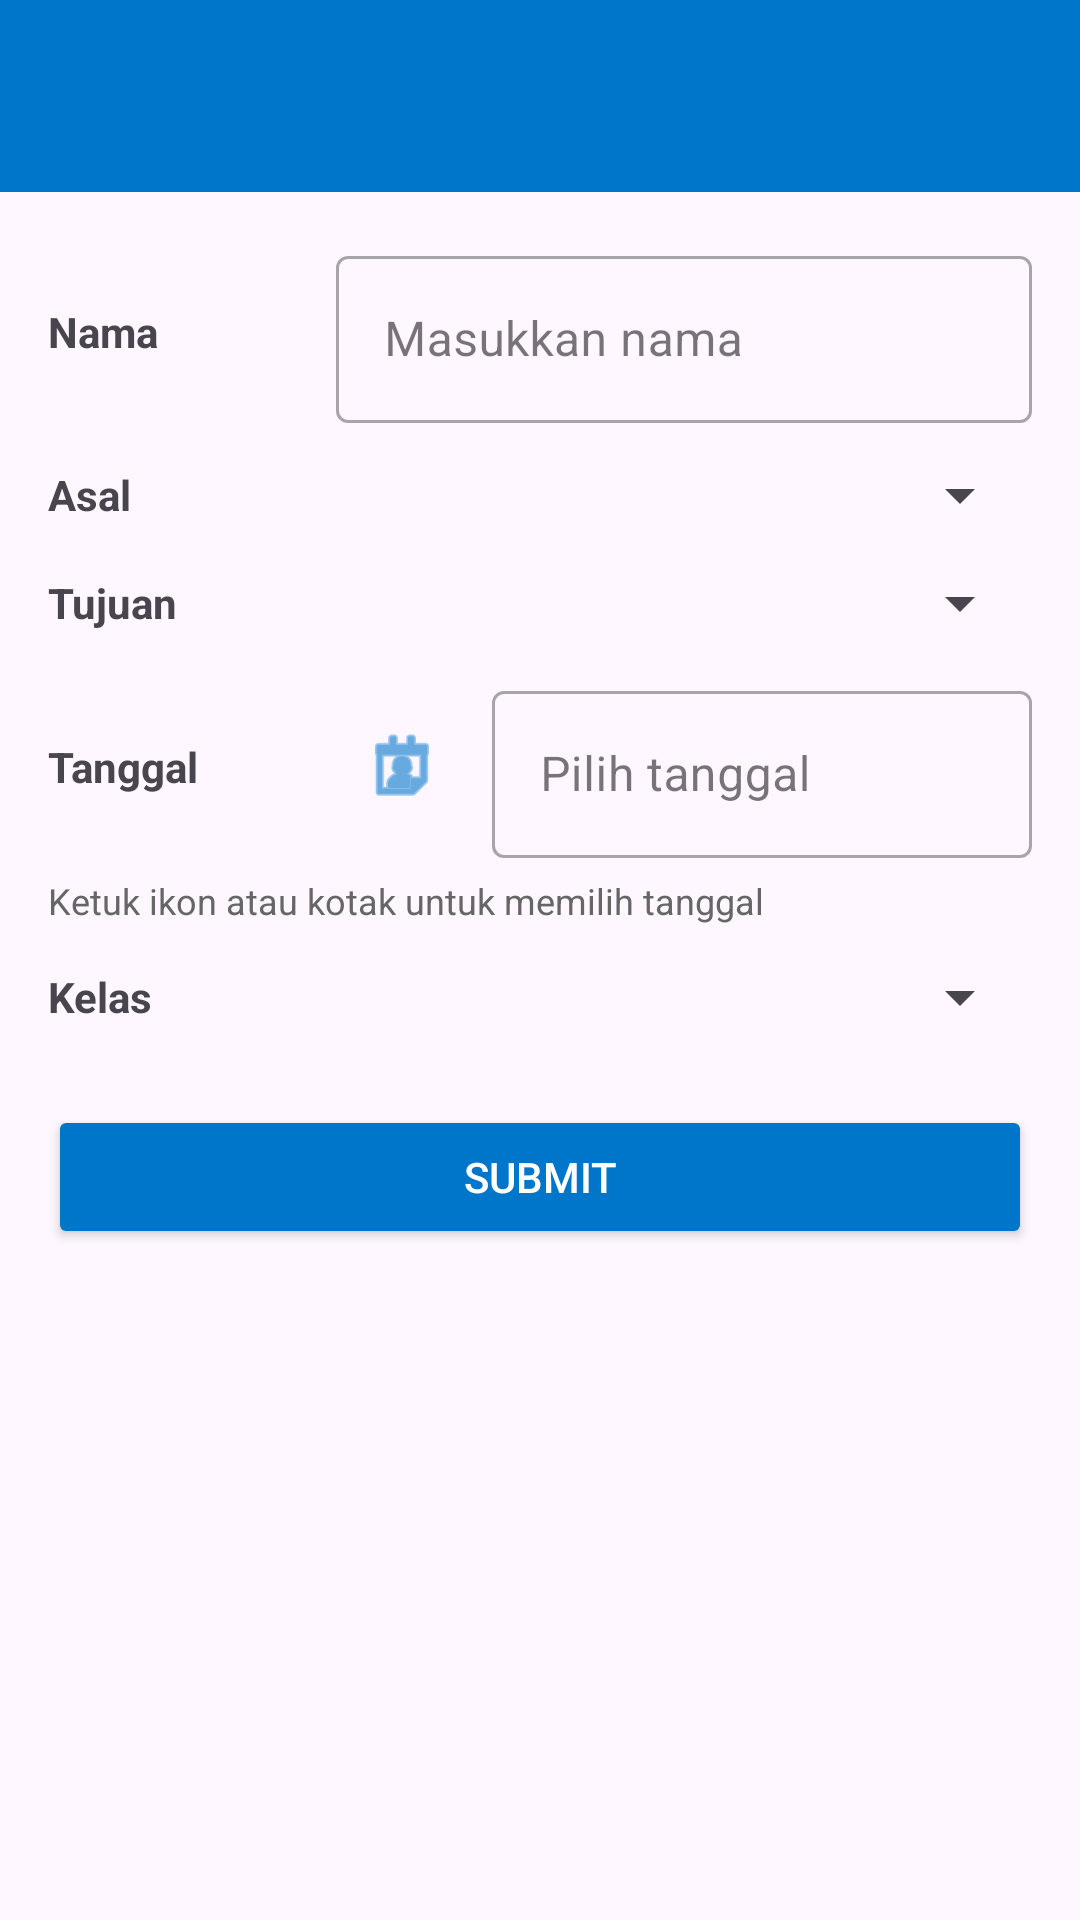

Where icons sit on this 1080 x 1920 app screen, as {"x1": x1, "y1": y1, "x2": x2, "y2": y2}:
Calendar: {"x1": 375, "y1": 734, "x2": 429, "y2": 796}
